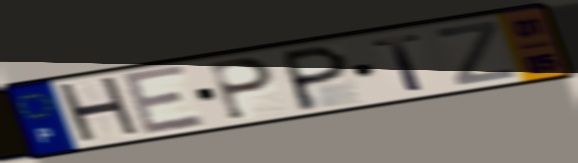E: (118, 62, 210, 139)
H: (54, 73, 146, 148)
P: (282, 42, 351, 113), (206, 55, 277, 123)
T: (368, 31, 428, 94)
Z: (433, 18, 518, 88)
